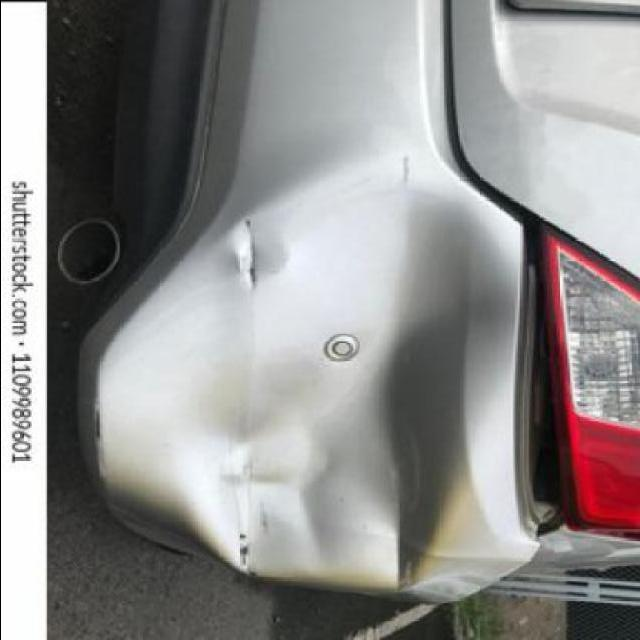rear-bumper-dent: (88, 157, 518, 598)
